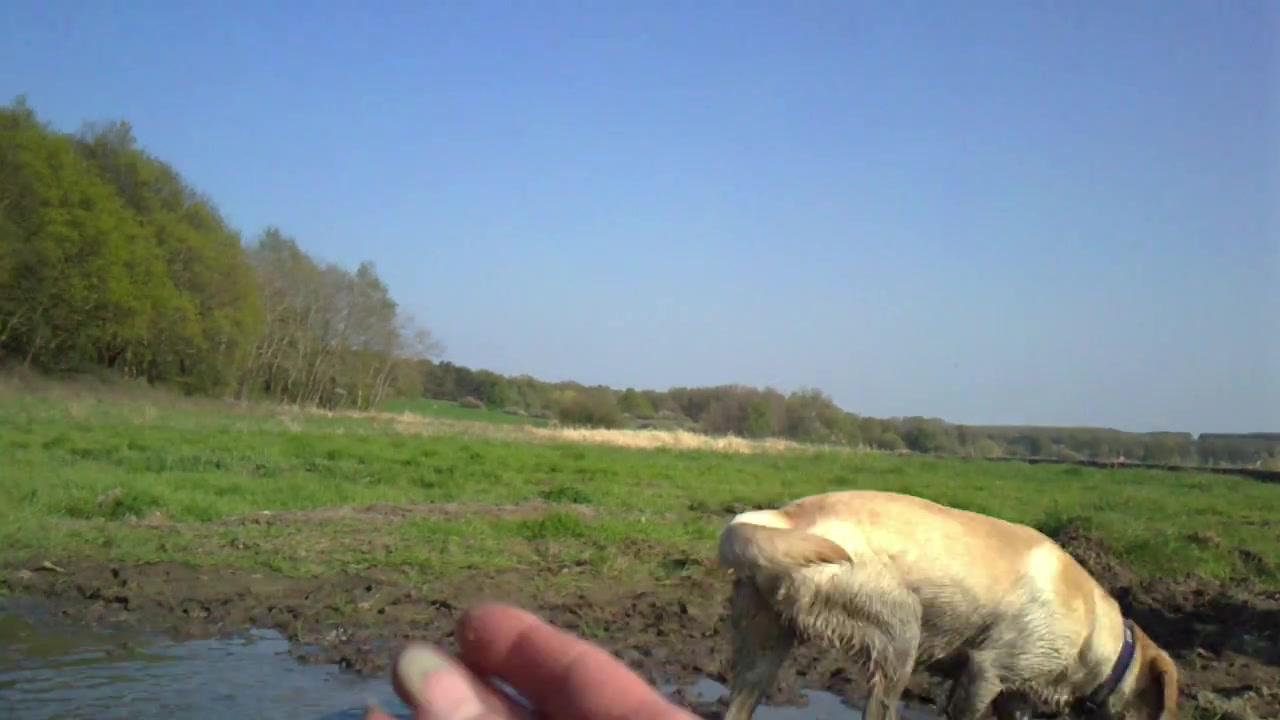dog: (720, 488, 1182, 720)
